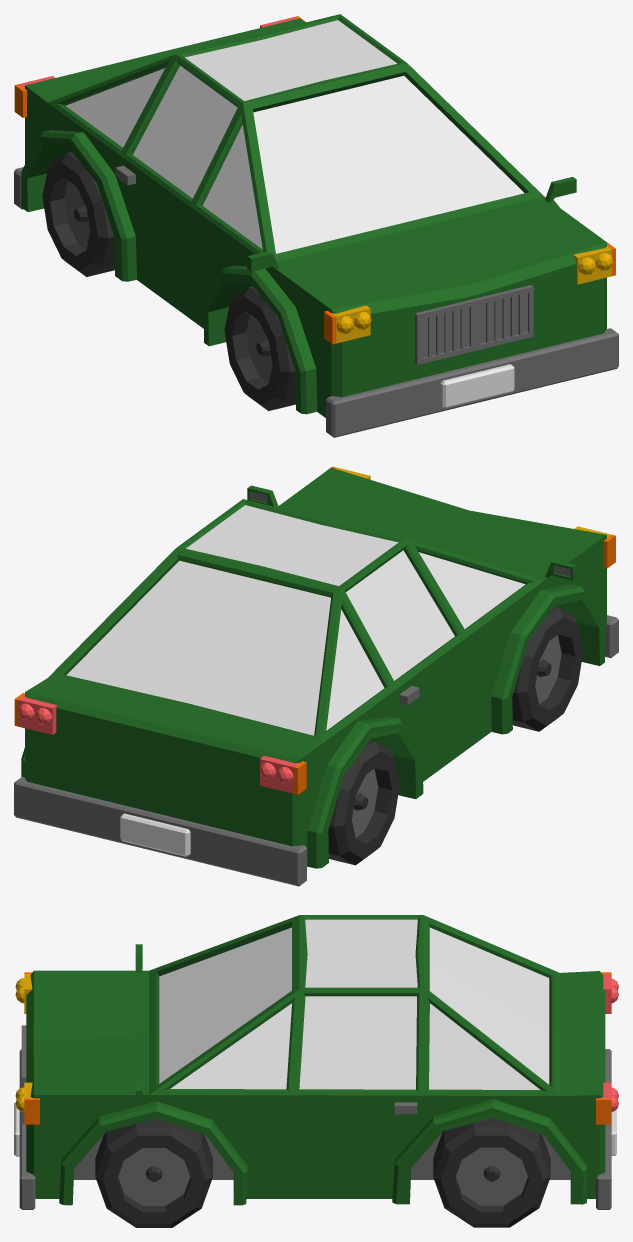
The model's file is Car C.fbx.
3 renders of one model, top to bottom at view 1: azimuth 30°, elevation 25°; view 2: azimuth 150°, elevation 25°; view 3: azimuth 270°, elevation 25°, orthographic. The views are drawn at different scales.
Parts seen in each view (by area): view 1: Car C; view 2: Car C; view 3: Car C.
Part boxes in pixels (x1,y1,x2,y2): Car C: (14,14,618,437); Car C: (14,466,618,886); Car C: (14,915,618,1227).
Size of the model in its own units: 167 by 112 by 291.
